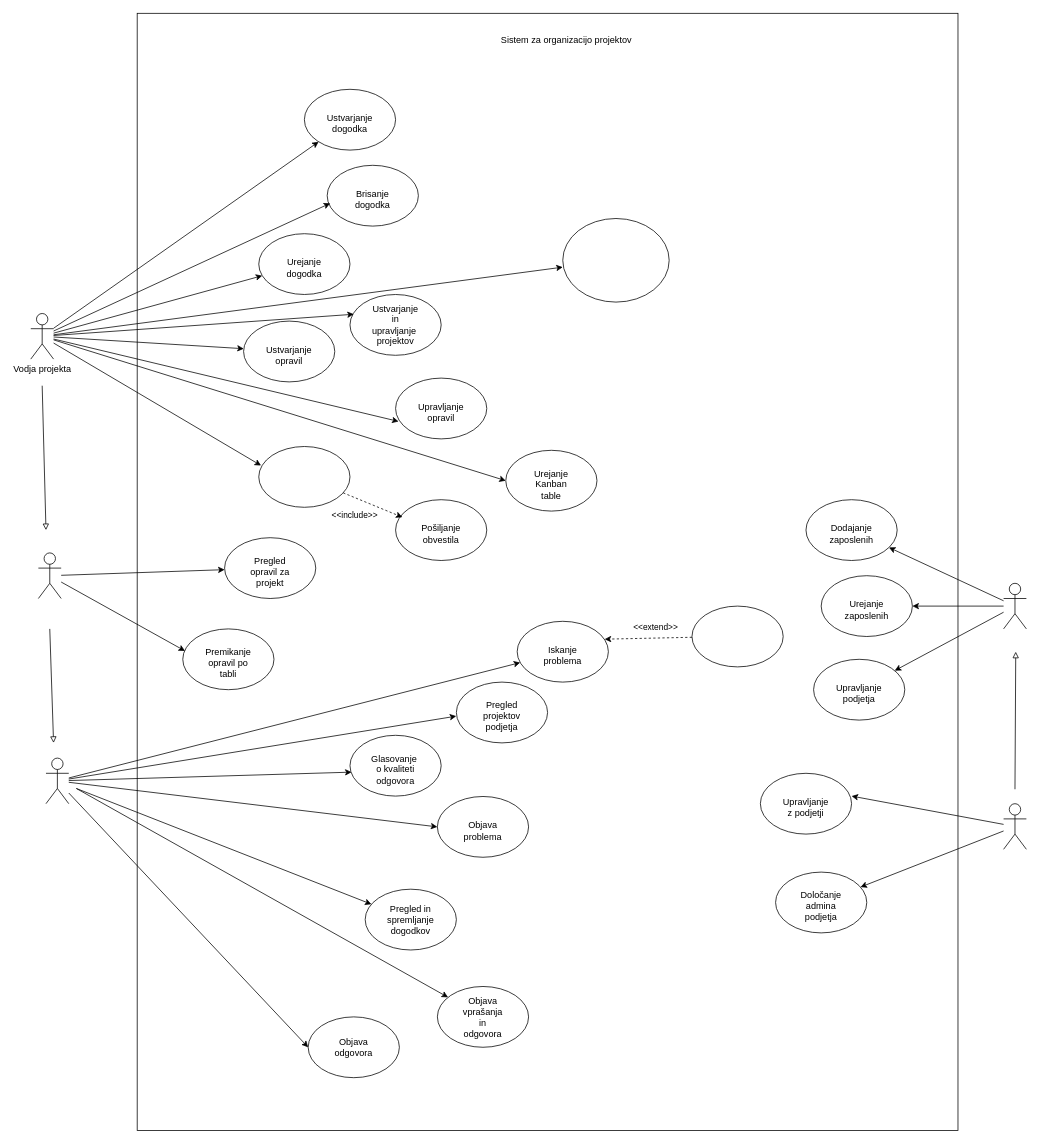
The diagram is 1053 pixels wide and 1144 high, and some of its shapes have lost their labels. Here are the shapes that lost their labels. From the top down, the centre of each, then its label:
At [615,260]: "Dodajanje in upravljanje članov k projektu".
At [304,476]: "Dodeljevanje opravil".
At [49,575]: "Član projekta".
At [1014,606]: "Admin".
At [737,636]: "Iskanje s pomočjo umetne inteligence".
At [57,780]: "Član brez projekta".
At [1014,826]: "Super admin".
